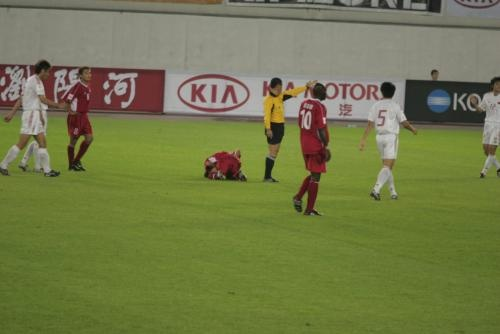falling: (199, 142, 252, 186)
